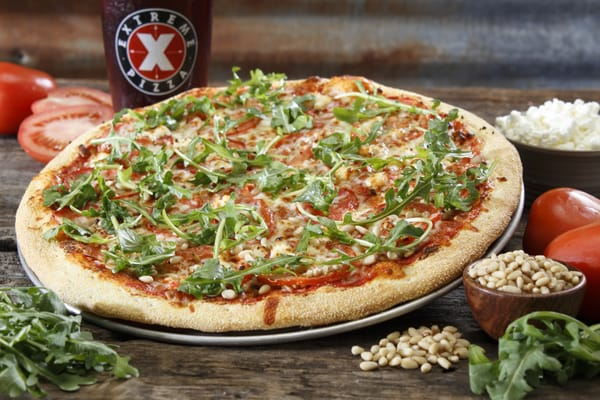sushi: (462, 250, 587, 341), (494, 95, 600, 198)
